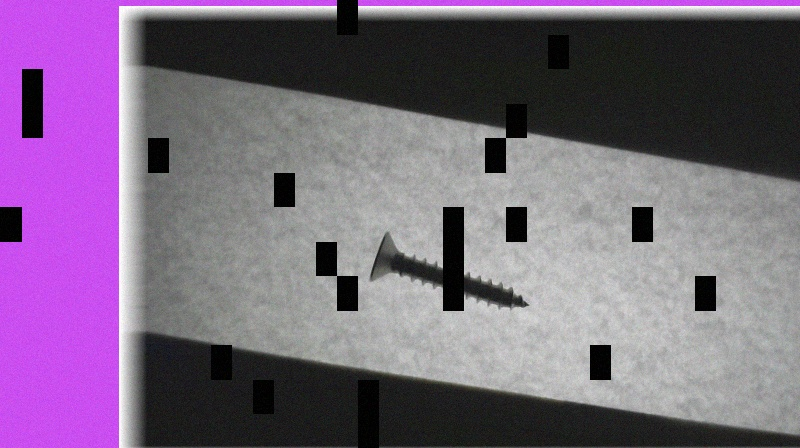S001: (367, 228, 530, 310)
